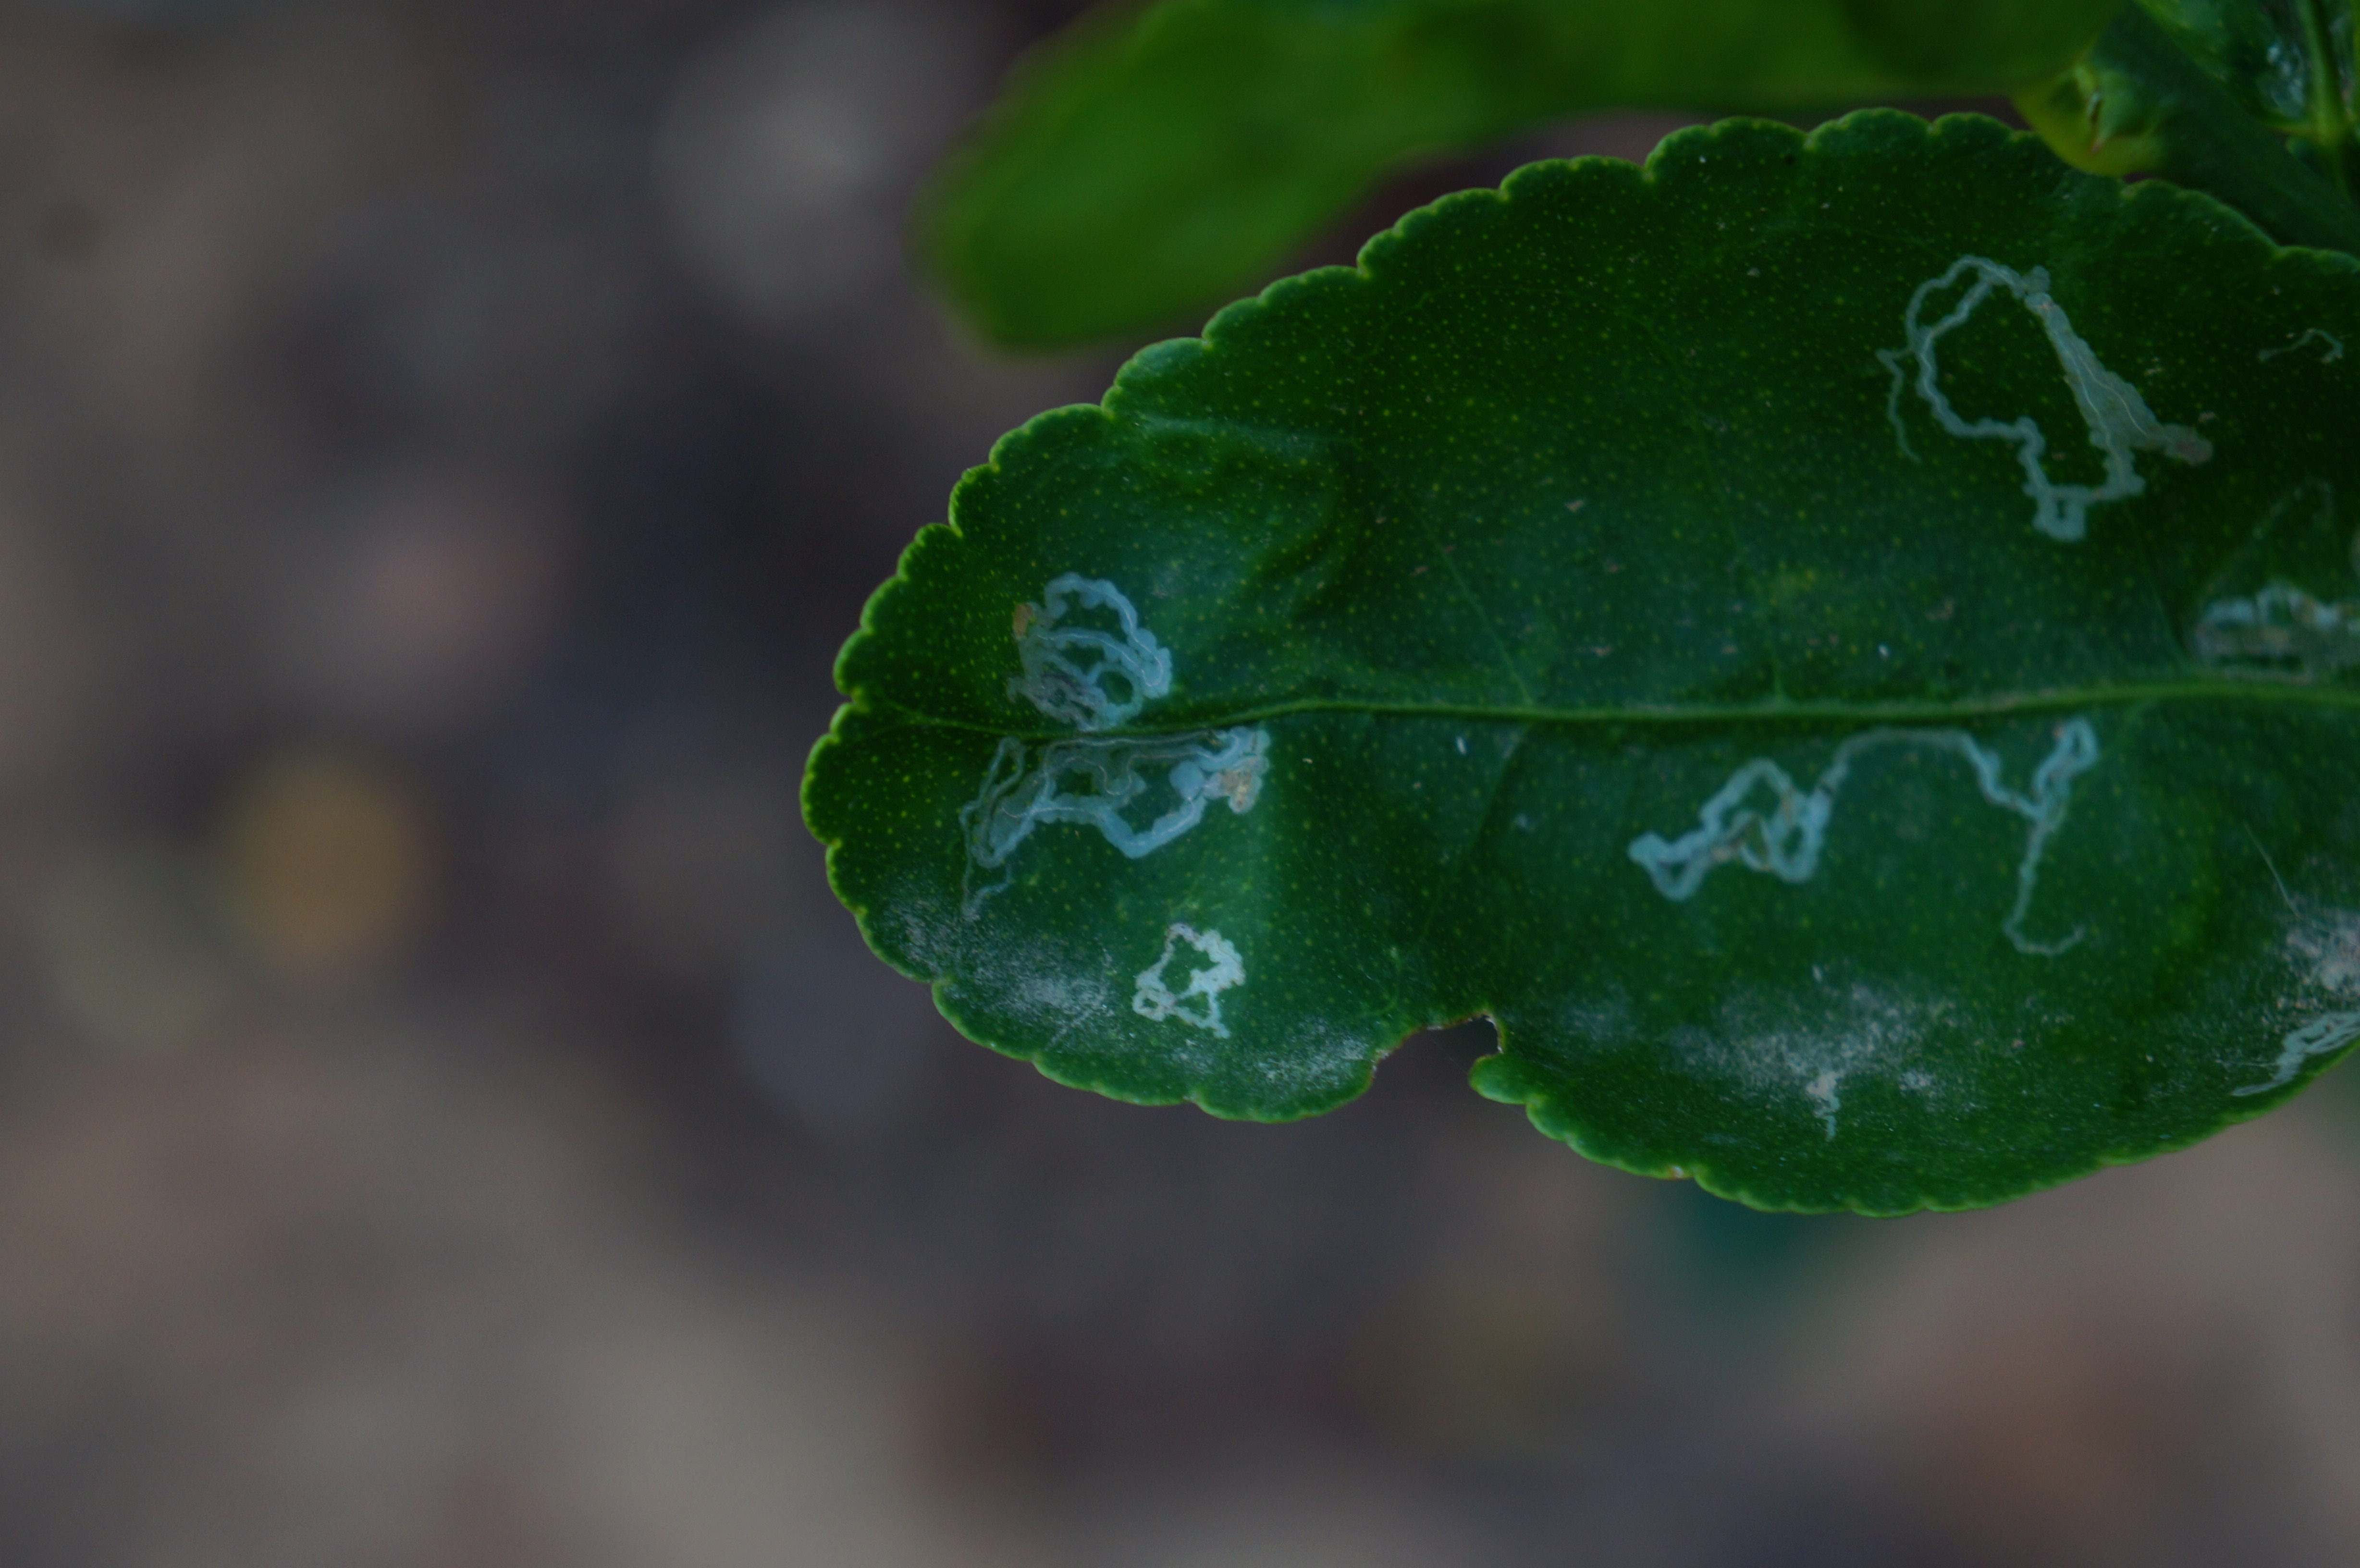damage: (1615, 693, 2120, 978), (959, 567, 1310, 931), (1874, 227, 2211, 567), (1111, 913, 1267, 1048), (2231, 966, 2360, 1111)
